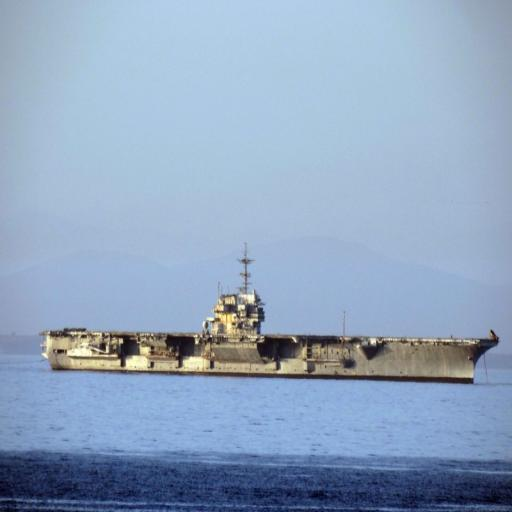Portanaves: (31, 243, 504, 384)
